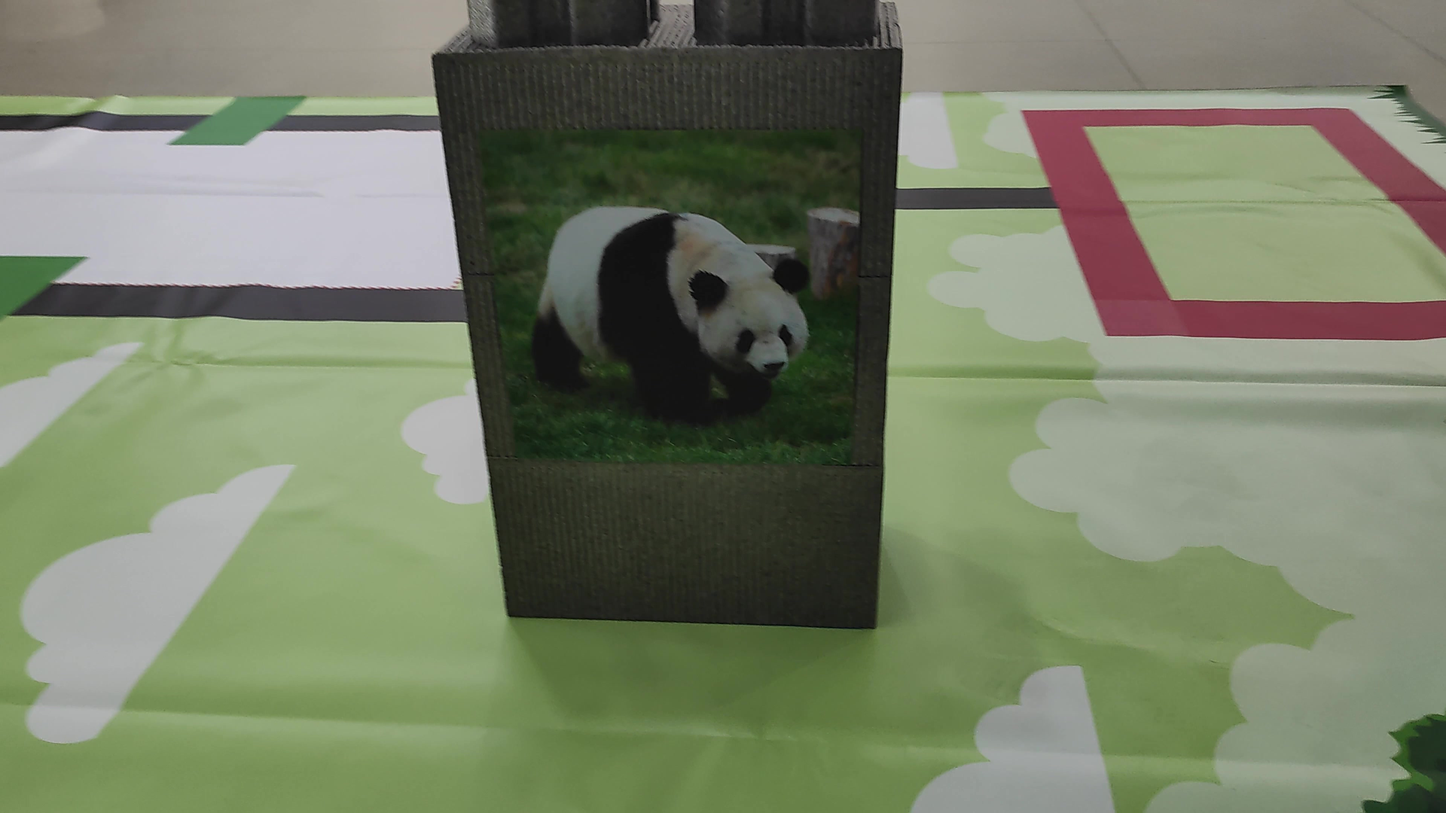panda: (503, 190, 825, 440)
